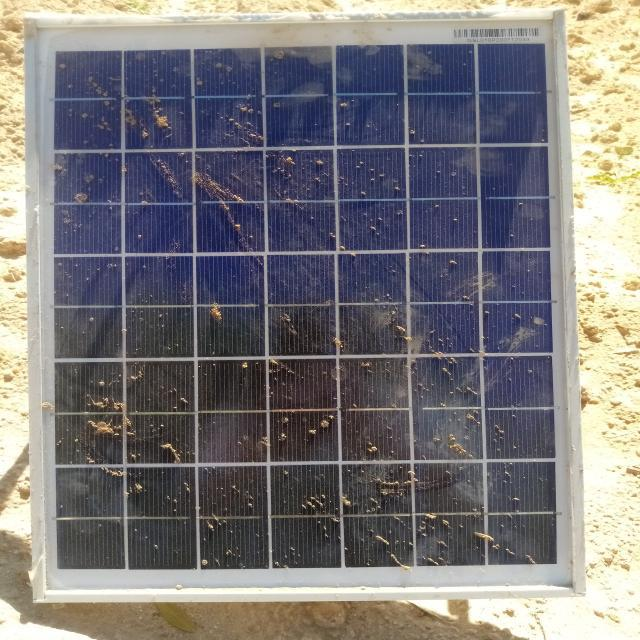faulty: (31, 9, 581, 598)
